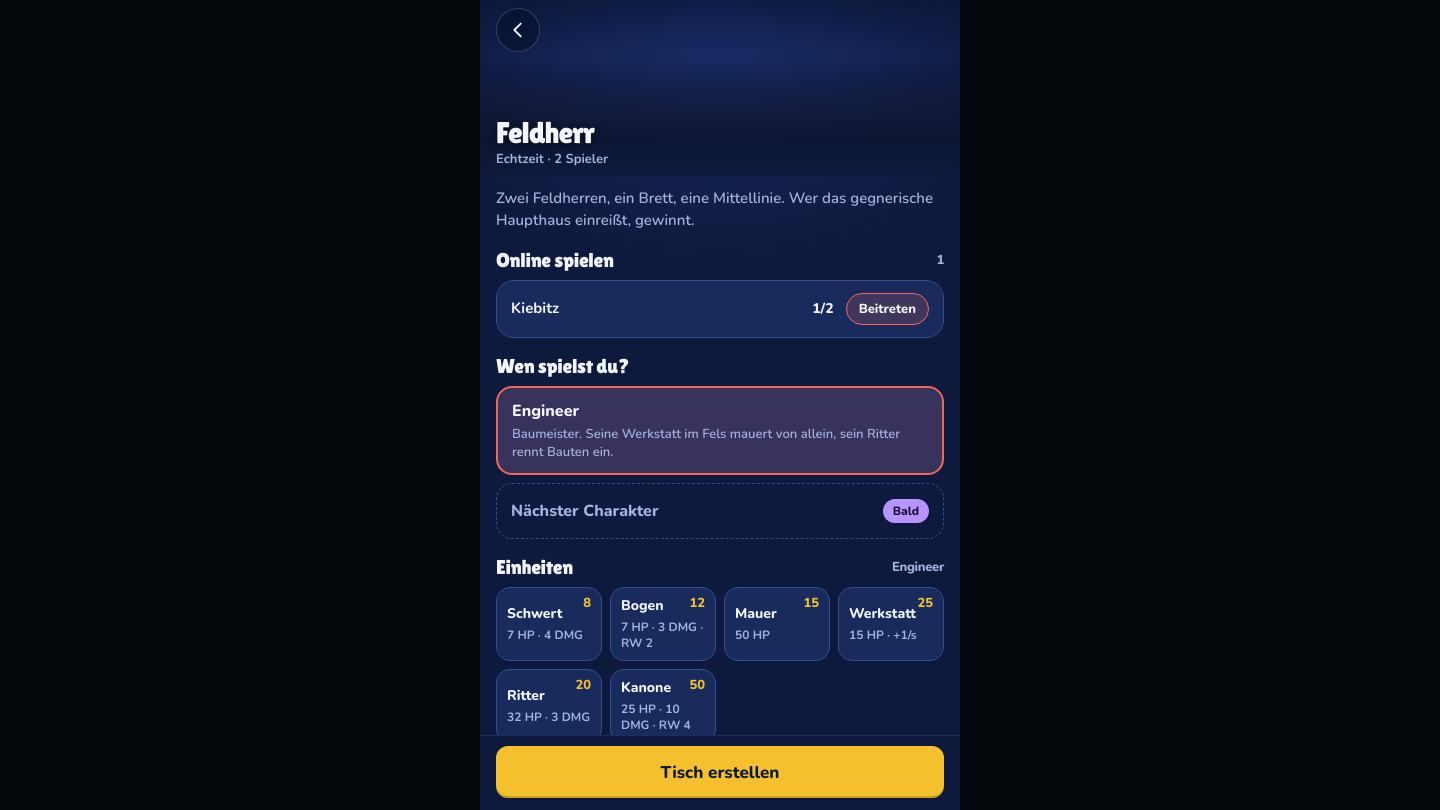
Test: Feldherr im neuen Hub › öffnet die Werte einer Einheit als Blatt
Click the button "Schwert 8 7 HP · 4 DMG": (549, 624) left=496, top=587, right=602, bottom=661
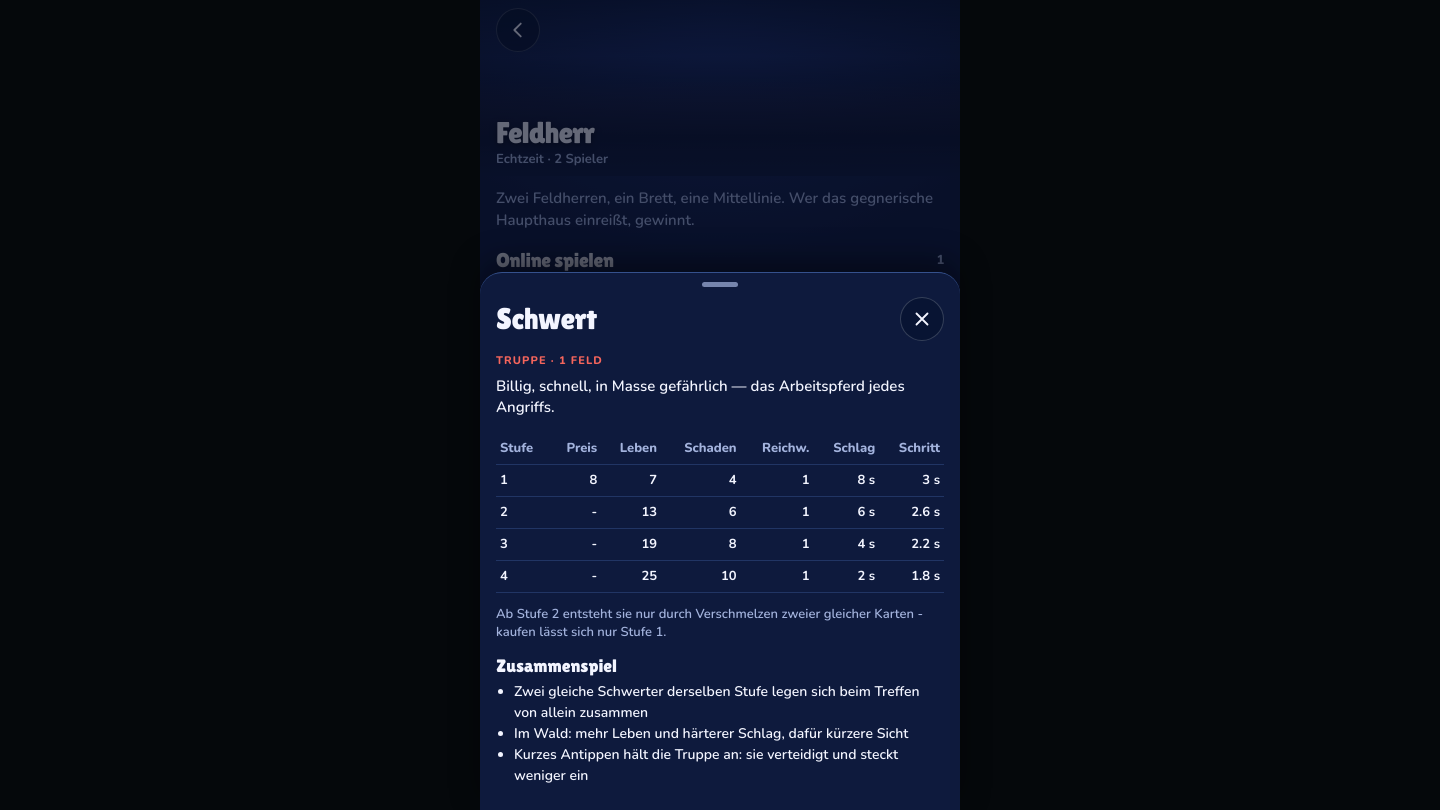
Result: the dialog named "Werte: Schwert" is shown at left=480, top=272, right=960, bottom=809
Click the button named "Schließen": (922, 319) left=900, top=297, right=944, bottom=341
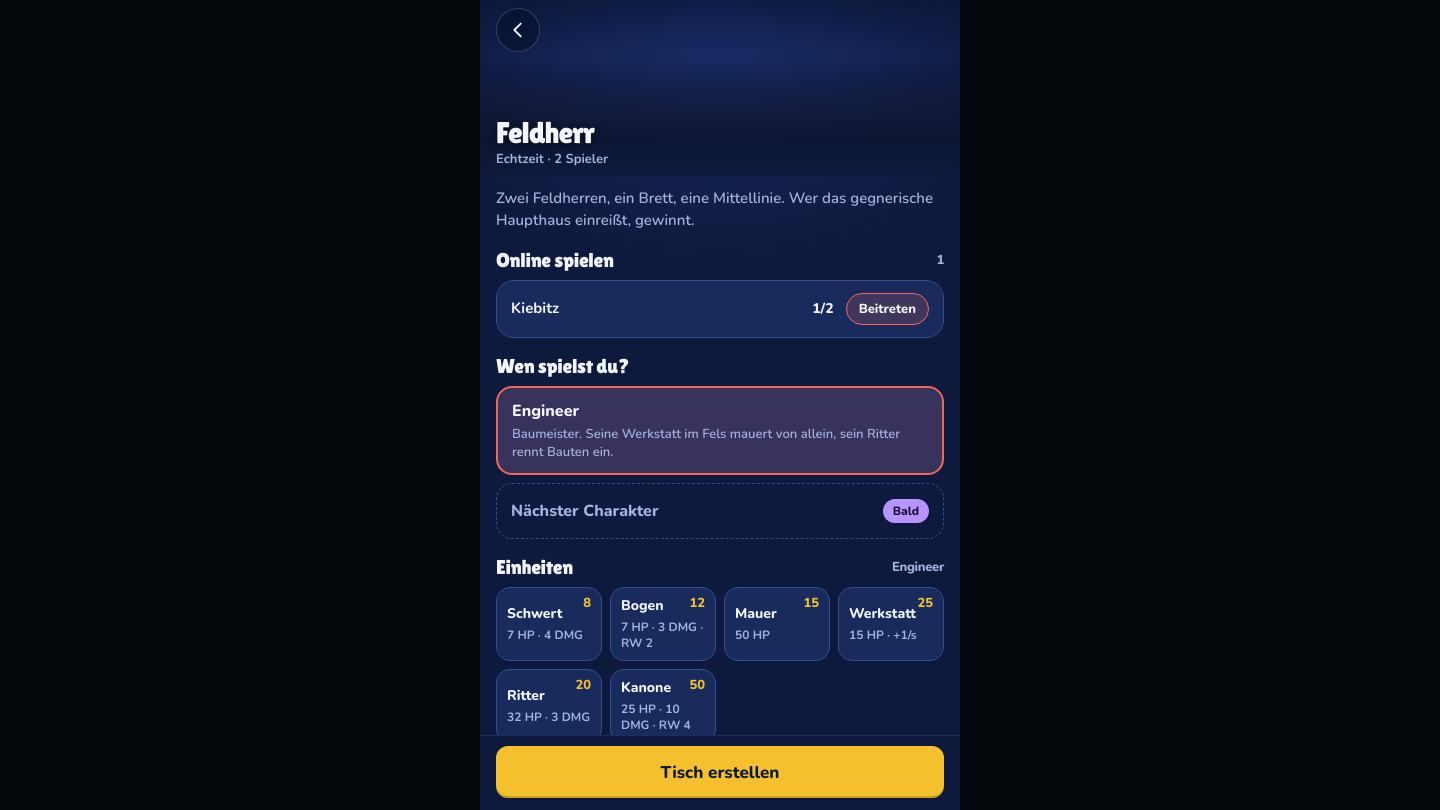
Result: the dialog is gone
